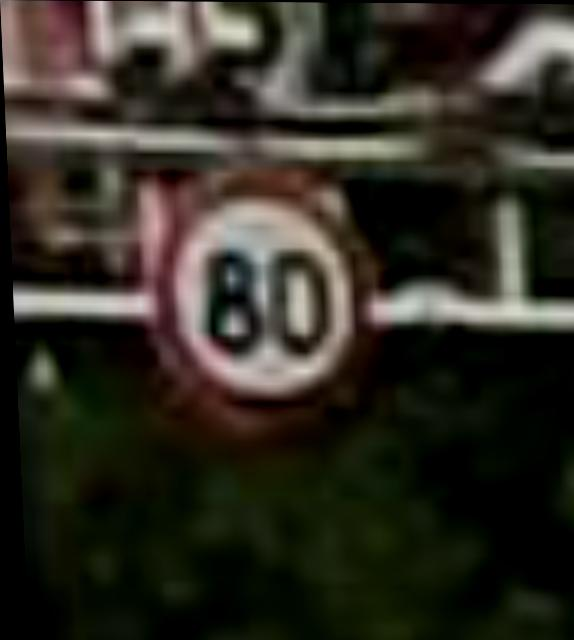limit80: (148, 133, 355, 408)
